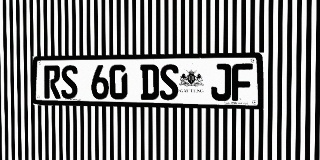0: (109, 65, 127, 100)
6: (91, 65, 109, 99)
D: (140, 64, 159, 100)
F: (232, 63, 253, 101)
J: (211, 64, 231, 101)
R: (44, 65, 61, 99)
S: (159, 64, 178, 100), (61, 65, 78, 99)
